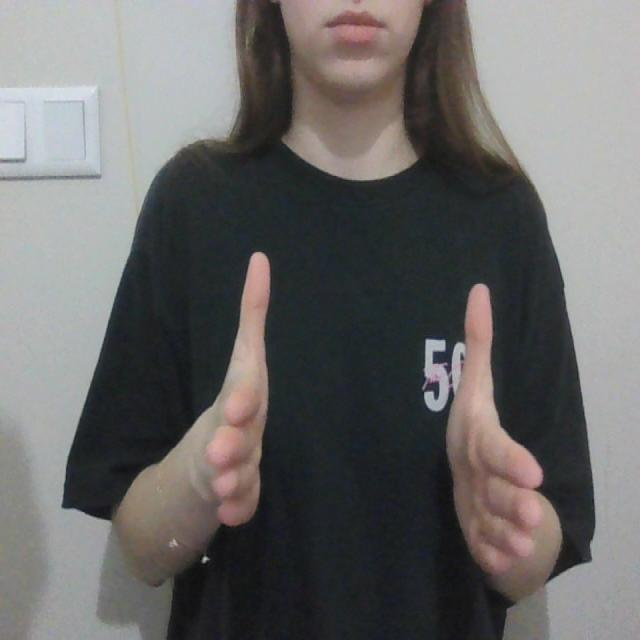Nasil: (190, 246, 547, 607)
